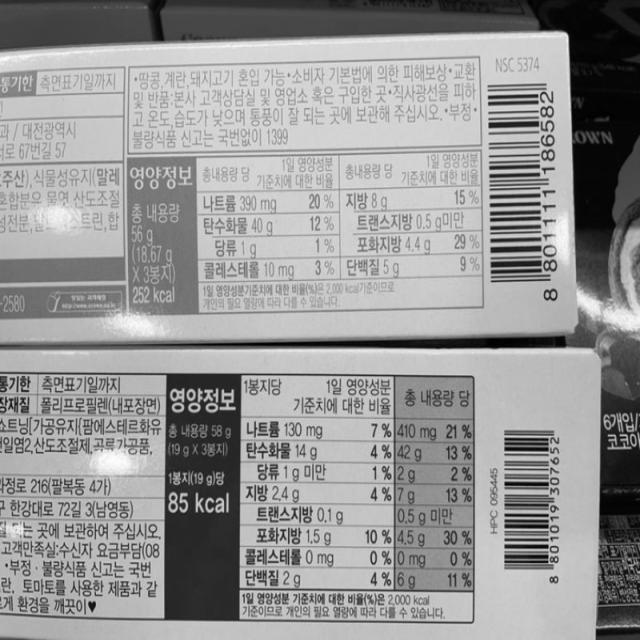Nutrition Label: (158, 366, 484, 636)
